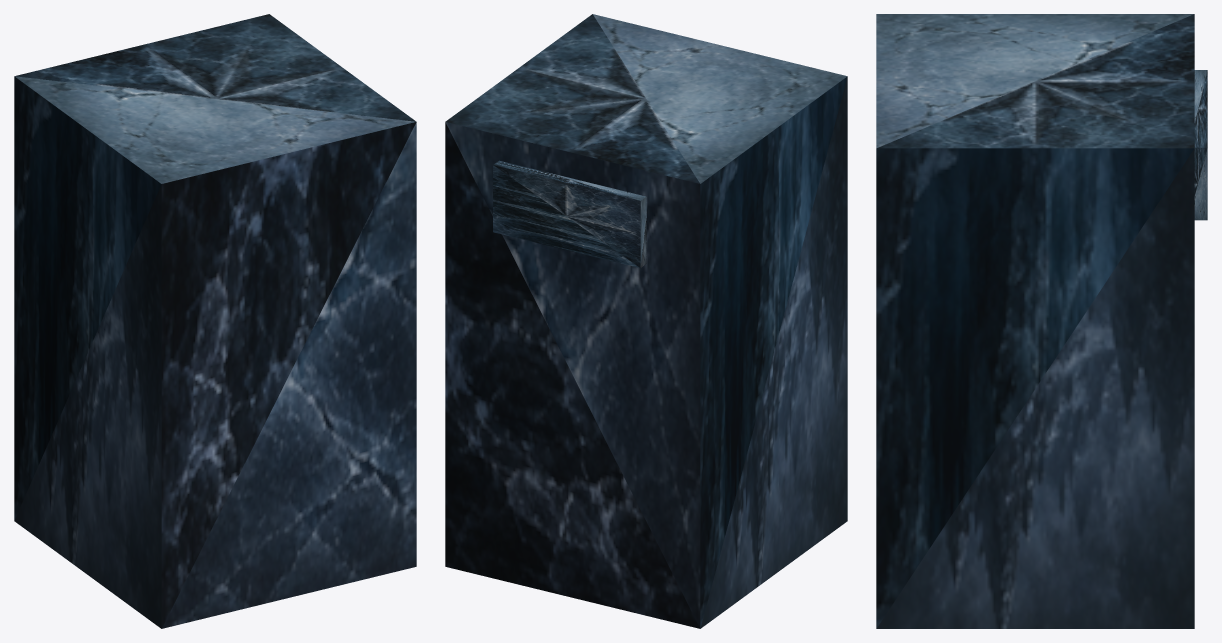
The model's file is player.obj.
The picture shows the model from 3 angles, left to right: view 1: azimuth 30°, elevation 25°; view 2: azimuth 150°, elevation 25°; view 3: azimuth 270°, elevation 25°; orthographic projection. The views are drawn at different scales.
Parts seen in each view (by area): view 1: player; view 2: player; view 3: player.
Boxes of the visible parts, <box> form: player: <box>14,14,416,628</box>; player: <box>445,14,847,628</box>; player: <box>876,14,1207,628</box>.
Size of the model in its own units: 1.35 by 2.25 by 1.41.
Materials: 1 (1 with a texture image).
